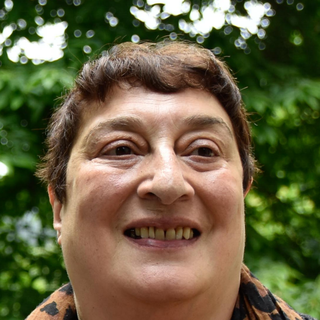eye: (97, 139, 144, 163), (180, 140, 224, 165)
